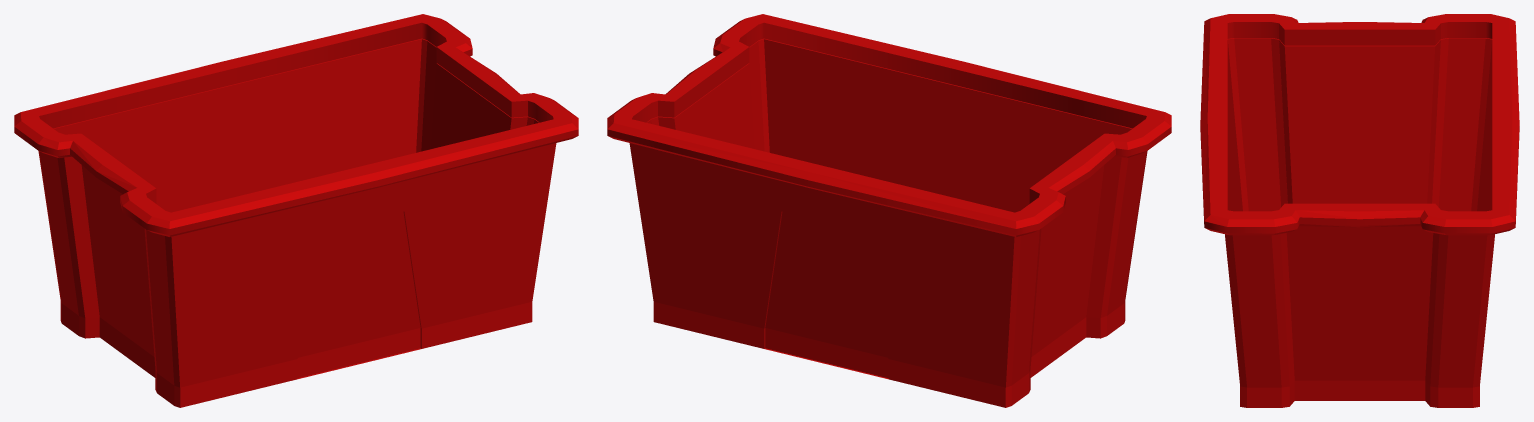
Rendered from SM_box_stackable_01.fbx.
3 views of the same model, side by side, from view 1: azimuth 30°, elevation 25°; view 2: azimuth 150°, elevation 25°; view 3: azimuth 270°, elevation 25° (orthographic).
Visible parts, largest first — view 1: box_stackable_01; view 2: box_stackable_01; view 3: box_stackable_01.
Part boxes in pixels (x1=…): box_stackable_01: x1=14, y1=14, x2=578, y2=407; box_stackable_01: x1=607, y1=14, x2=1171, y2=407; box_stackable_01: x1=1200, y1=14, x2=1519, y2=407.
Size of the model in its own units: 99.37 by 44.74 by 63.43.
